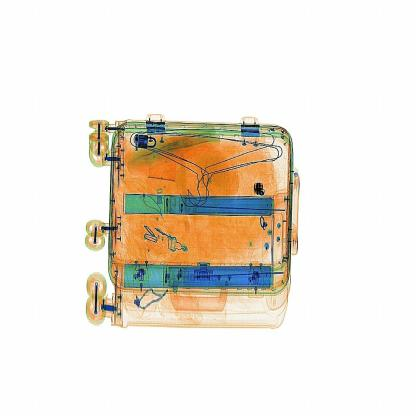scissors: (254, 178, 268, 198)
